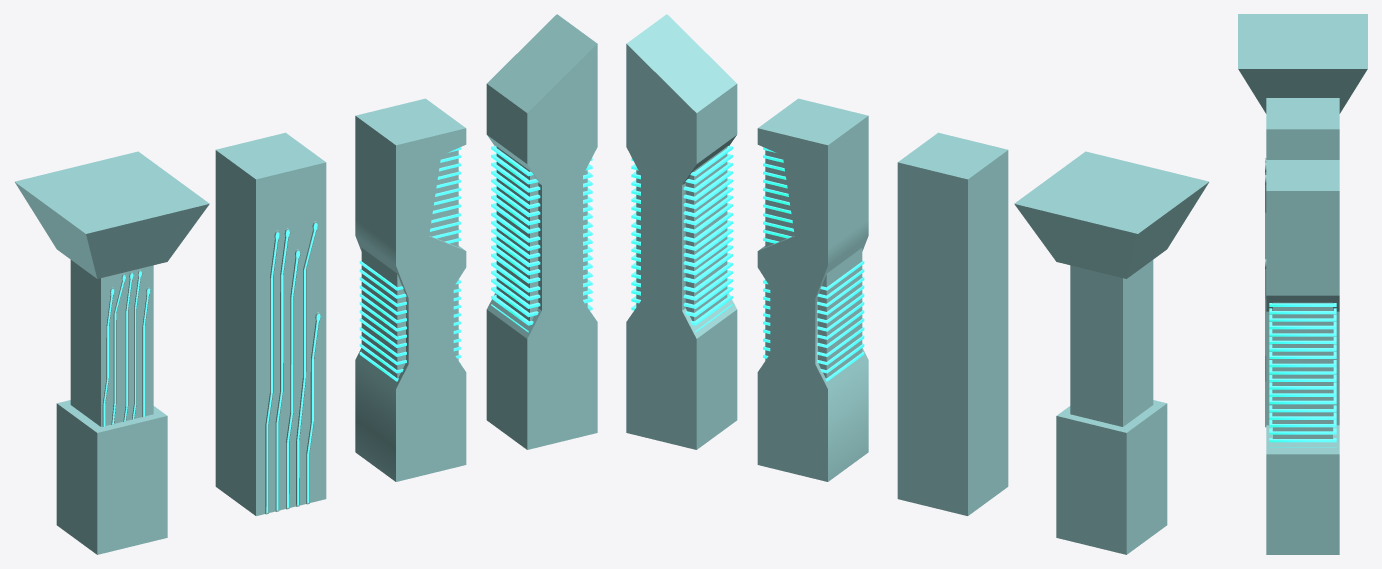
File: stubovi FBX.FBX
3 views of the same model, side by side, from view 1: azimuth 30°, elevation 25°; view 2: azimuth 150°, elevation 25°; view 3: azimuth 270°, elevation 25° (orthographic). The views are drawn at different scales.
Visible parts, largest first — view 1: Box006, Box001, Box003, Box002, Shape005, Shape004, Object001, Object007; view 2: Box006, Box001, Box003, Box002, Shape005, Shape004; view 3: Box003, Box006, Shape005, Box001, Box002.
Boxes of the visible parts, bbox=[...] form: Box006: bbox=[15, 151, 209, 554]; Box001: bbox=[215, 132, 326, 515]; Box003: bbox=[486, 14, 597, 449]; Box002: bbox=[355, 98, 466, 481]; Shape005: bbox=[491, 146, 592, 332]; Shape004: bbox=[359, 147, 460, 381]; Object001: bbox=[266, 223, 320, 512]; Object007: bbox=[103, 271, 150, 426]; Box006: bbox=[1014, 151, 1208, 554]; Box001: bbox=[897, 132, 1008, 515]; Box003: bbox=[626, 14, 737, 449]; Box002: bbox=[757, 98, 868, 481]; Shape005: bbox=[631, 146, 732, 332]; Shape004: bbox=[763, 147, 864, 381]; Box003: bbox=[1266, 201, 1339, 554]; Box006: bbox=[1238, 14, 1367, 113]; Shape005: bbox=[1269, 303, 1336, 447]; Box001: bbox=[1265, 98, 1339, 427]; Box002: bbox=[1266, 160, 1339, 201].
Size of the model in its own units: 251 by 177 by 58.96.
